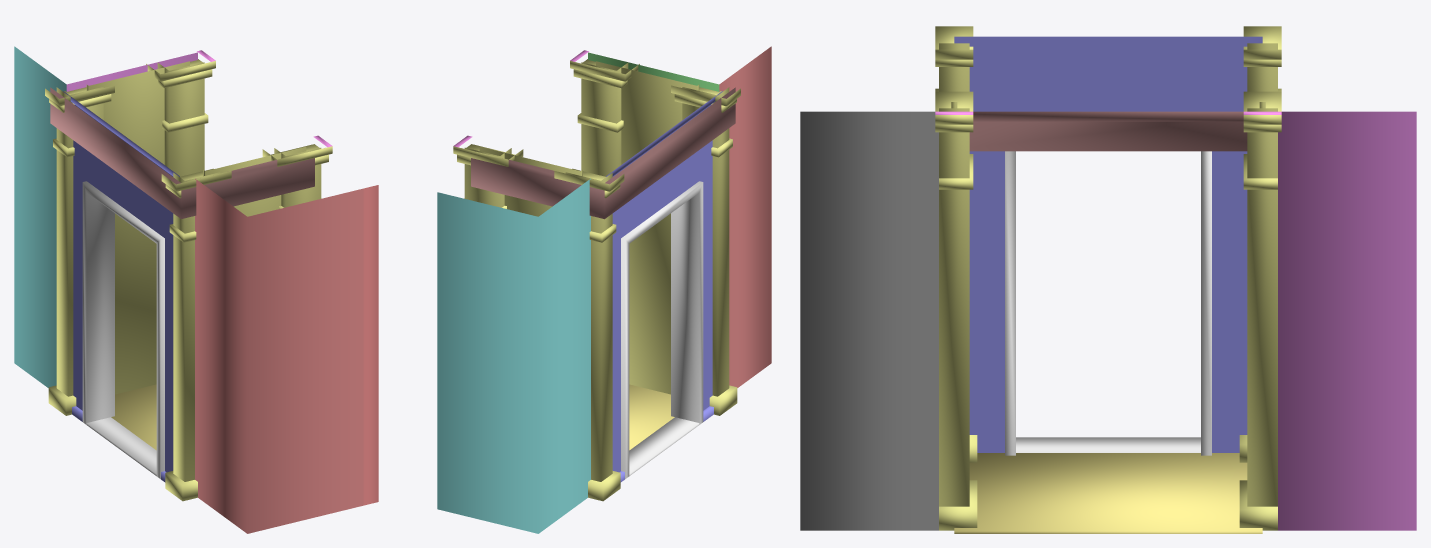
The model's file is SM_shopFront_Entrance.gltf.
3 renders of one model, left to right at view 1: azimuth 30°, elevation 25°; view 2: azimuth 150°, elevation 25°; view 3: azimuth 270°, elevation 25°, orthographic. The views are drawn at different scales.
Parts seen in each view (by area): view 1: SM_shopFront_Entrance; view 2: SM_shopFront_Entrance; view 3: SM_shopFront_Entrance.
Part boxes in pixels (box(x1,y1,x2,y2)): SM_shopFront_Entrance: box(14, 46, 378, 533); SM_shopFront_Entrance: box(437, 46, 771, 533); SM_shopFront_Entrance: box(800, 26, 1416, 533).
Size of the model in its own units: 1.55 by 3 by 4.
